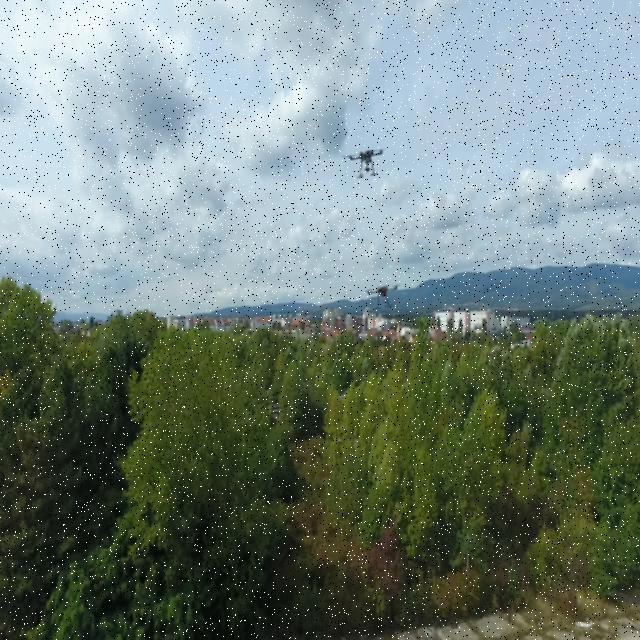UAV: (344, 140, 390, 185)
